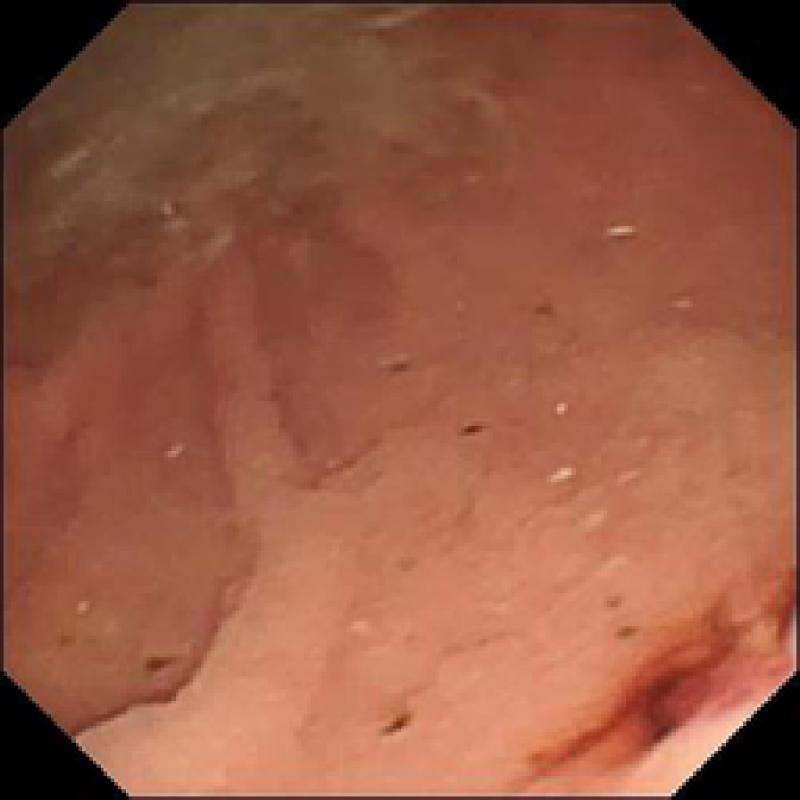bleeding: (540, 564, 796, 782)
